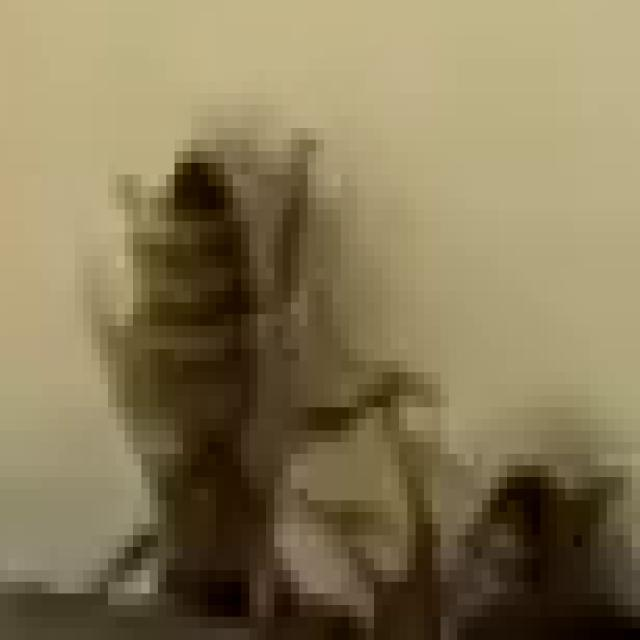honeybee: (105, 95, 375, 640), (432, 384, 640, 640)
